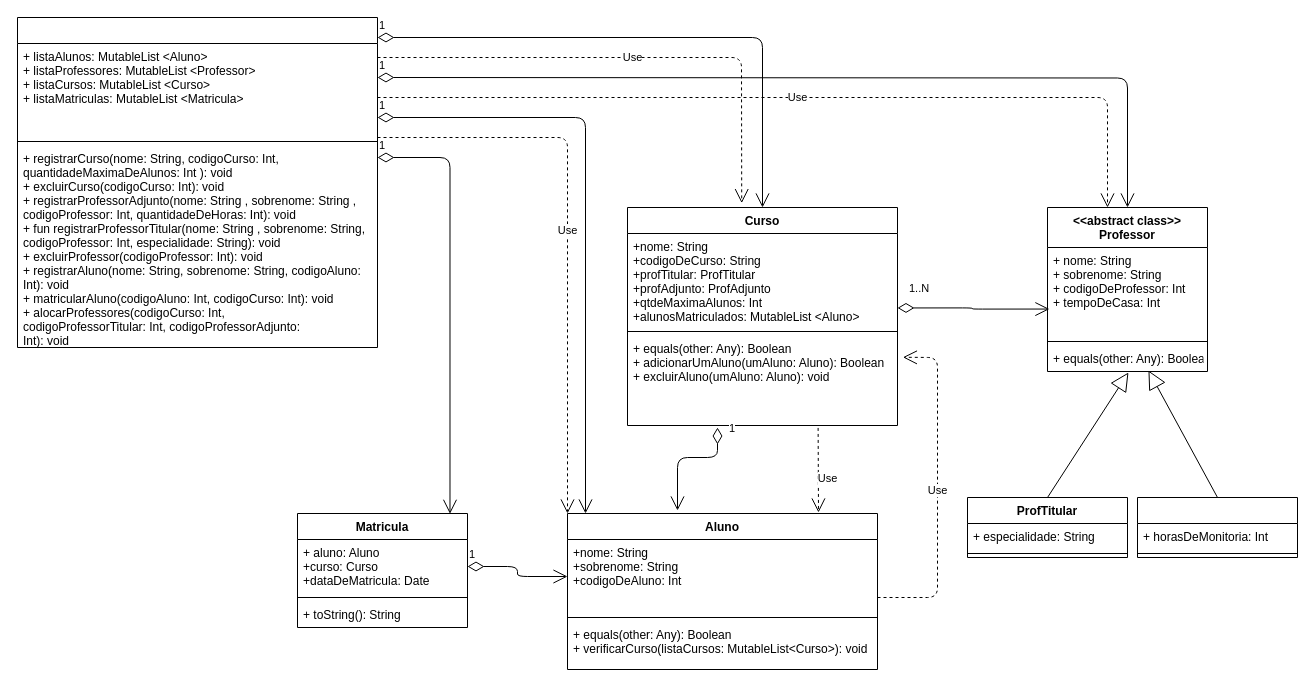
Some shapes in this 1315 by 690 pixel diagram are drawn without their labels. Each missing label, with the box of its shape:
DigitalHouseManager: (16, 16, 378, 348)
ProfAdjunto: (1136, 496, 1298, 558)
